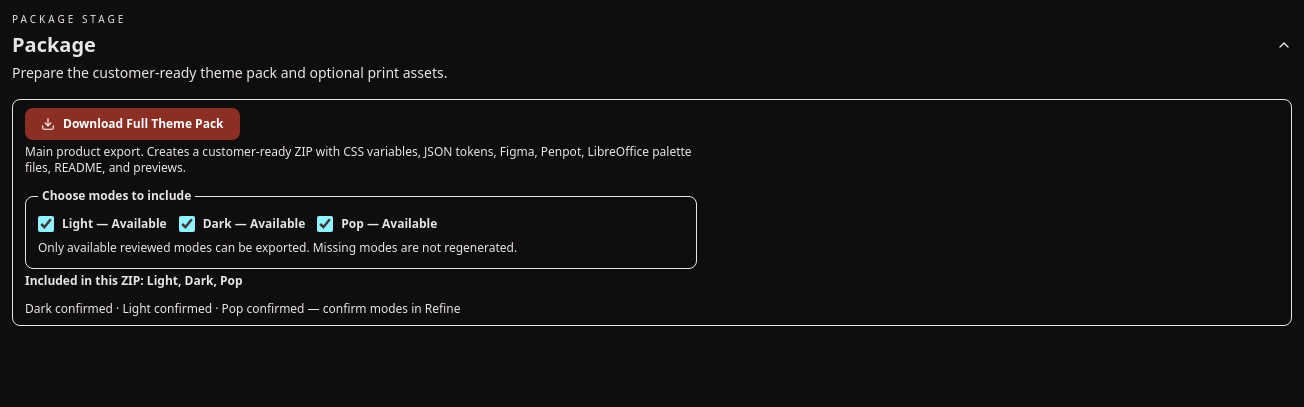
Test: PackageStage › passes selected modes to export and shows omitted modes separately
Click the checkbox labelled "Pop — Available".
click(325, 224)  # box x1=317 y1=216 x2=333 y2=232
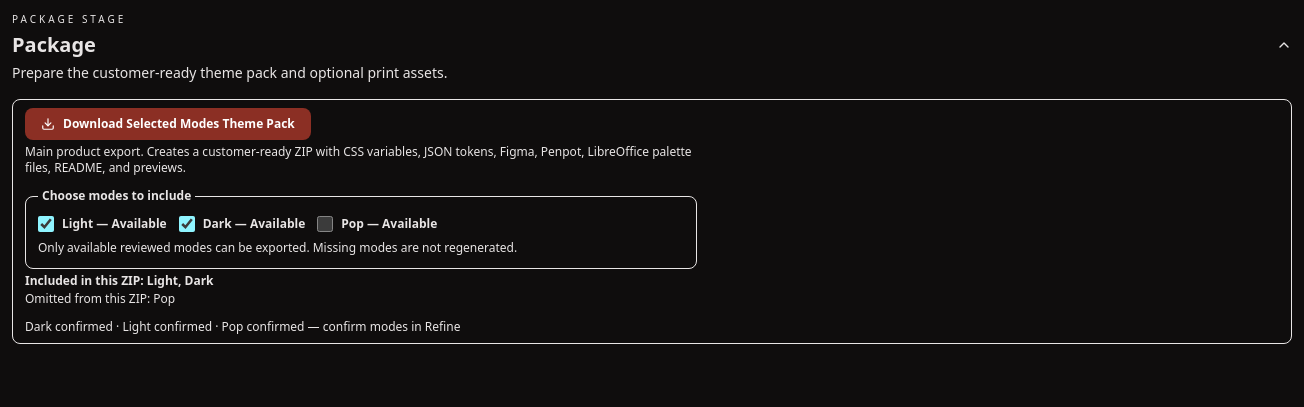
Check: the text "Included in this ZIP: Light, Dark" is shown, box x1=25 y1=272 x2=214 y2=289
Check: the text "Omitted from this ZIP: Pop" is shown, box x1=25 y1=290 x2=175 y2=307
Click the button "Download Selected Modes Theme Pack".
click(168, 124)  # box x1=25 y1=108 x2=311 y2=140
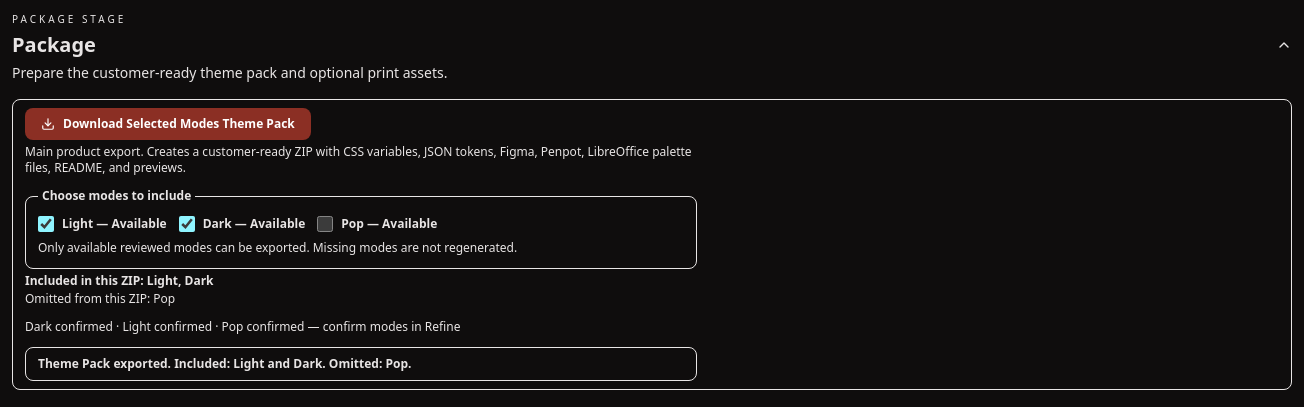
Check: the message reads "Theme Pack exported. Included: Light and Dark. Omitted: Pop.", box x1=38 y1=355 x2=412 y2=372
